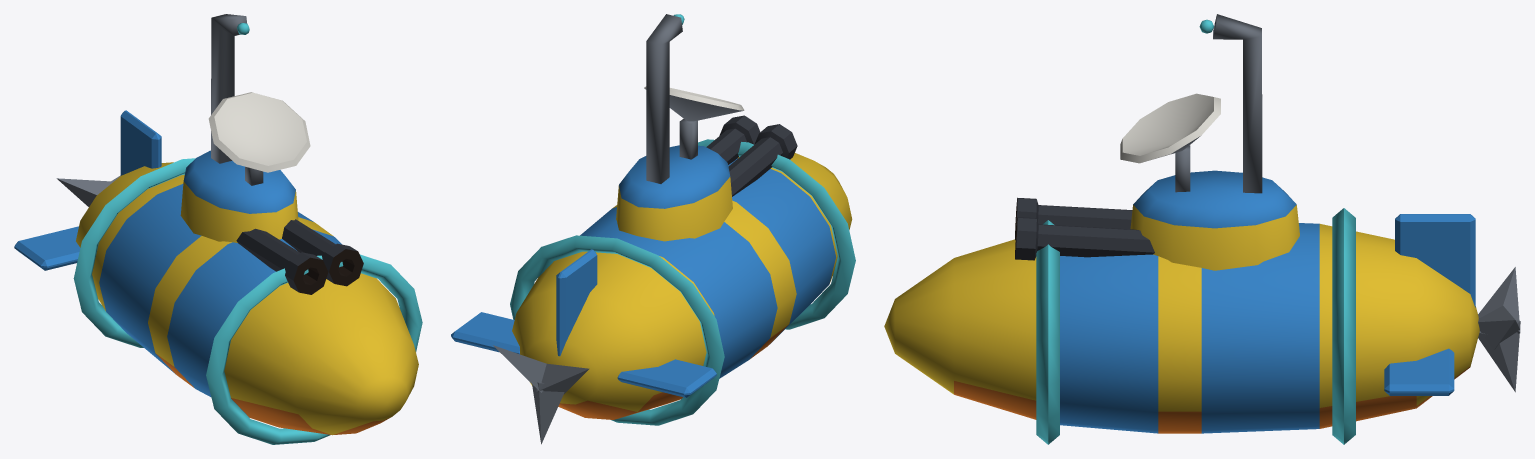
3 views of the same model, side by side, from view 1: azimuth 30°, elevation 25°; view 2: azimuth 150°, elevation 25°; view 3: azimuth 270°, elevation 25° (orthographic). The views are drawn at different scales.
Parts seen in each view (by area): view 1: submarino_0_base, submarino_1_torreta; view 2: submarino_0_base, submarino_1_torreta; view 3: submarino_0_base, submarino_1_torreta.
Boxes of the visible parts, x1=… form: submarino_0_base: x1=14, y1=110, x2=422, y2=444; submarino_1_torreta: x1=180, y1=14, x2=363, y2=294; submarino_0_base: x1=451, y1=139, x2=855, y2=444; submarino_1_torreta: x1=616, y1=14, x2=797, y2=241; submarino_0_base: x1=884, y1=208, x2=1520, y2=444; submarino_1_torreta: x1=1015, y1=14, x2=1299, y2=270.
Bounding box in the file's own units: 0.58 × 0.8458 × 1.18.
